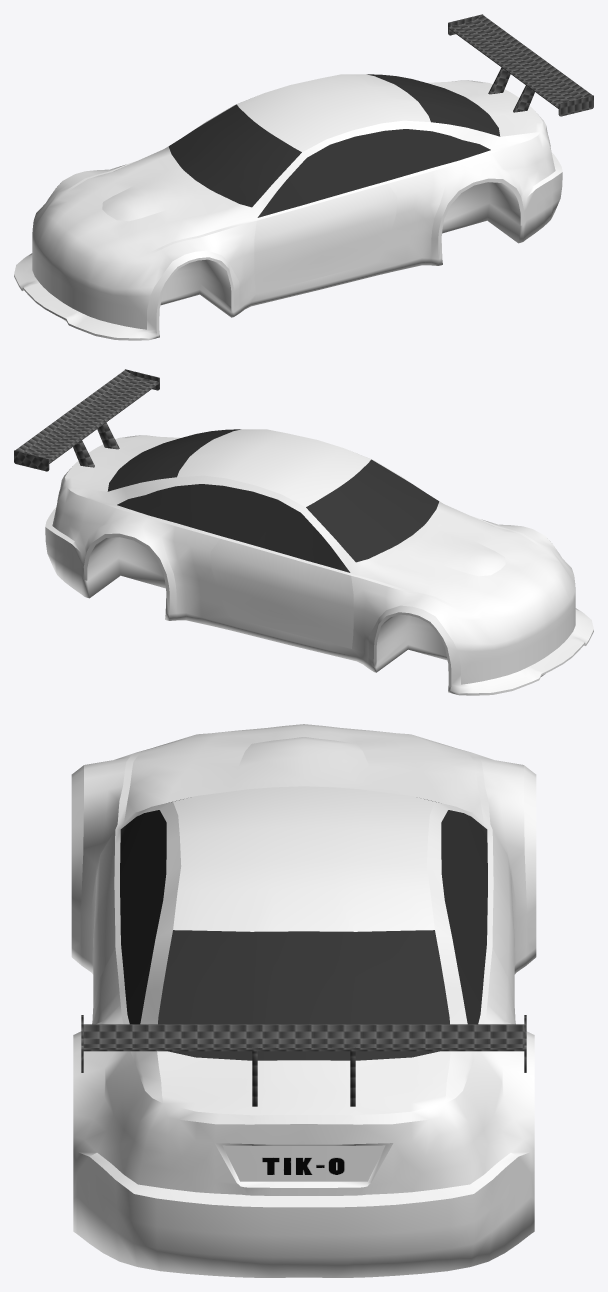
The model's file is Car3.FBX.
3 views of the same model, one above another, from view 1: azimuth 30°, elevation 25°; view 2: azimuth 150°, elevation 25°; view 3: azimuth 270°, elevation 25° (orthographic). The views are drawn at different scales.
Parts seen in each view (by area): view 1: Car; view 2: Car; view 3: Car.
Boxes of the visible parts, x1=… form: Car: x1=14, y1=14, x2=593, y2=340; Car: x1=14, y1=369, x2=593, y2=695; Car: x1=71, y1=724, x2=536, y2=1277.
Size of the model in its own units: 1567 by 413 by 633.
